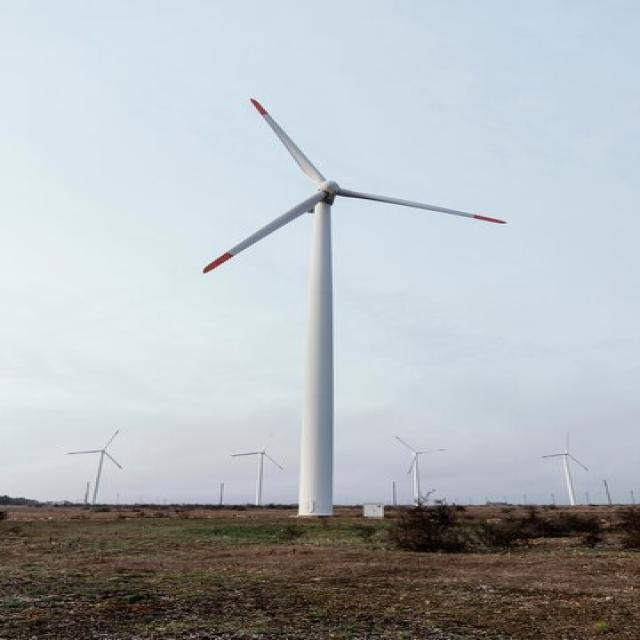solid-blade: (202, 190, 328, 272), (252, 99, 326, 186), (338, 189, 504, 223)
wind-turbine: (202, 99, 504, 516)
